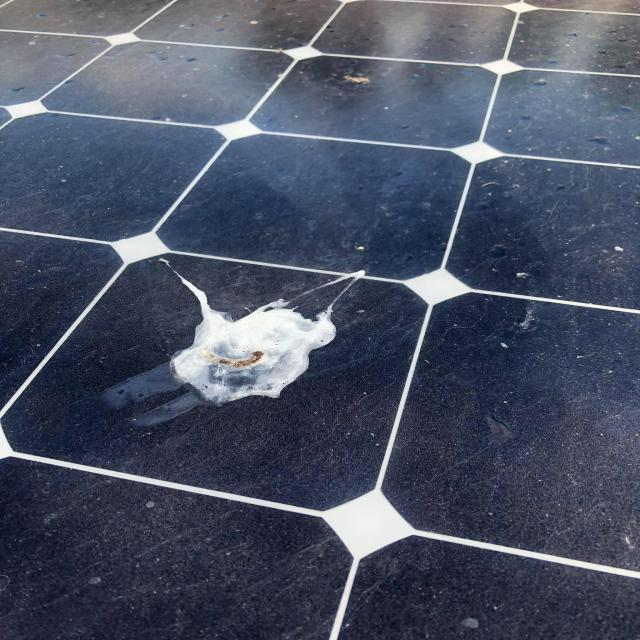soiled: (5, 2, 640, 549)
